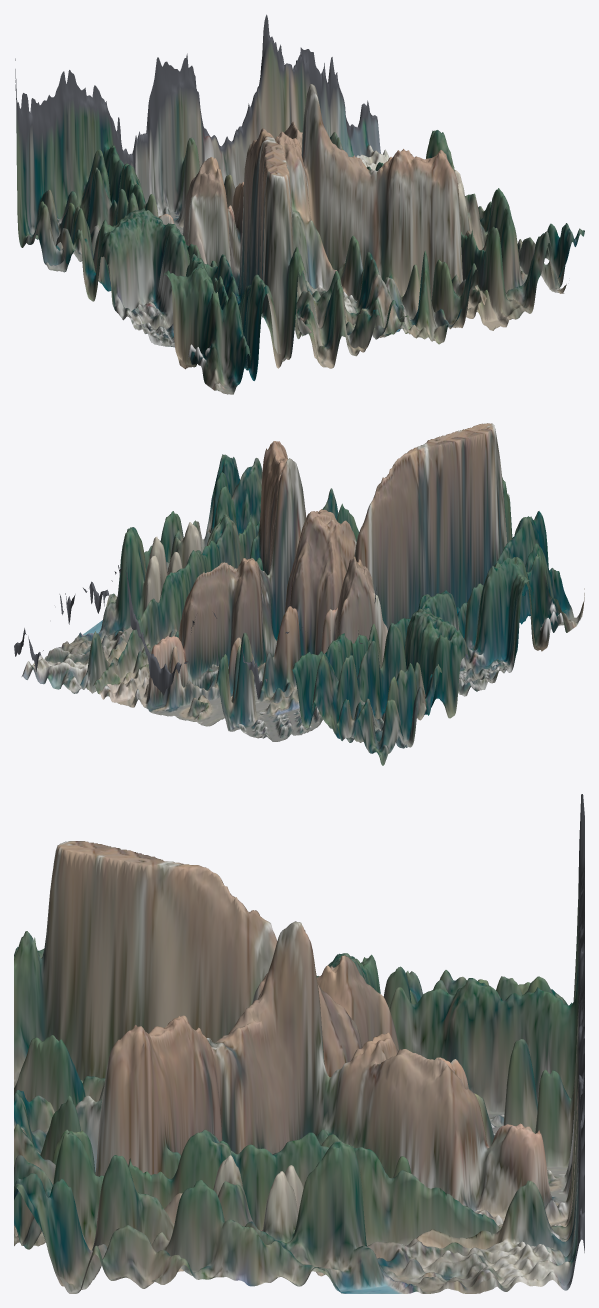
File: dsm_f90d29a3fa_mesh.glb
3 renders of one model, top to bottom at view 1: azimuth 30°, elevation 25°; view 2: azimuth 150°, elevation 25°; view 3: azimuth 270°, elevation 25°, orthographic. The views are drawn at different scales.
Parts seen in each view (by area): view 1: geometry_0; view 2: geometry_0; view 3: geometry_0.
Part boxes in pixels (left/top/right/bottom): geometry_0: left=15, top=14, right=584, bottom=394; geometry_0: left=14, top=423, right=584, bottom=765; geometry_0: left=14, top=794, right=584, bottom=1293.
Bounding box in the file's own units: 2 × 1 × 2.
